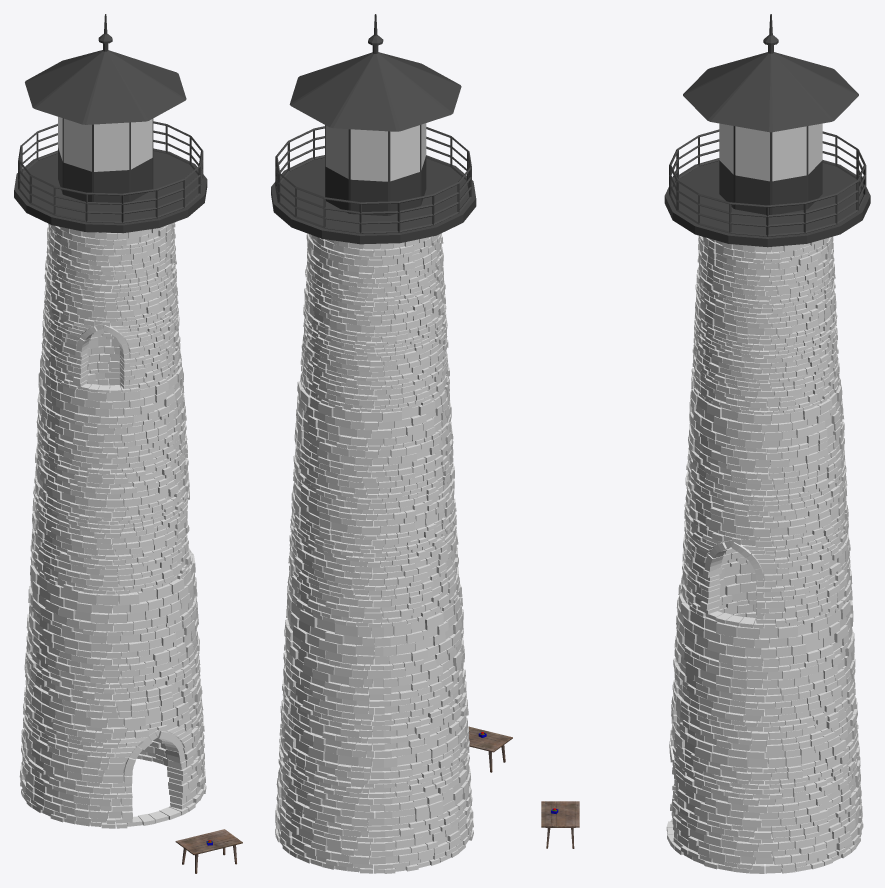
Rendered from StoneLighthouse.fbx.
The picture shows the model from 3 angles, left to right: view 1: azimuth 30°, elevation 25°; view 2: azimuth 150°, elevation 25°; view 3: azimuth 270°, elevation 25°; orthographic projection. The views are drawn at different scales.
Parts seen in each view (by area): view 1: Wall.003, Wall.004, Wall.005, Circle.002, Circle, Circle.001, table_e; view 2: Wall.003, Wall.004, Wall.005, Circle.002, Circle, Circle.001, table_e; view 3: Wall.003, Wall.004, Wall.005, Circle.002, Circle, Circle.001, table_e.
Part boxes in pixels (left/top/right/bottom): Wall.003: left=19, top=538, right=206, bottom=828; Wall.004: left=30, top=337, right=192, bottom=594; Wall.005: left=41, top=222, right=181, bottom=393; Circle.002: left=25, top=14, right=186, bottom=202; Circle: left=14, top=148, right=207, bottom=233; Circle.001: left=18, top=121, right=203, bottom=223; table_e: left=175, top=829, right=242, bottom=873; Wall.003: left=275, top=568, right=473, bottom=873; Wall.004: left=287, top=376, right=459, bottom=627; Wall.005: left=300, top=233, right=449, bottom=412; Circle.002: left=289, top=14, right=461, bottom=215; Circle: left=271, top=155, right=476, bottom=244; Circle.001: left=275, top=126, right=471, bottom=233; table_e: left=468, top=726, right=512, bottom=772; Wall.003: left=666, top=563, right=863, bottom=873; Wall.004: left=680, top=378, right=852, bottom=628; Wall.005: left=691, top=235, right=840, bottom=414; Circle.002: left=683, top=14, right=858, bottom=214; Circle: left=664, top=158, right=870, bottom=247; Circle.001: left=669, top=129, right=866, bottom=236; table_e: left=541, top=801, right=579, bottom=848.
Size of the model in its own units: 1917 by 8446 by 3066.
